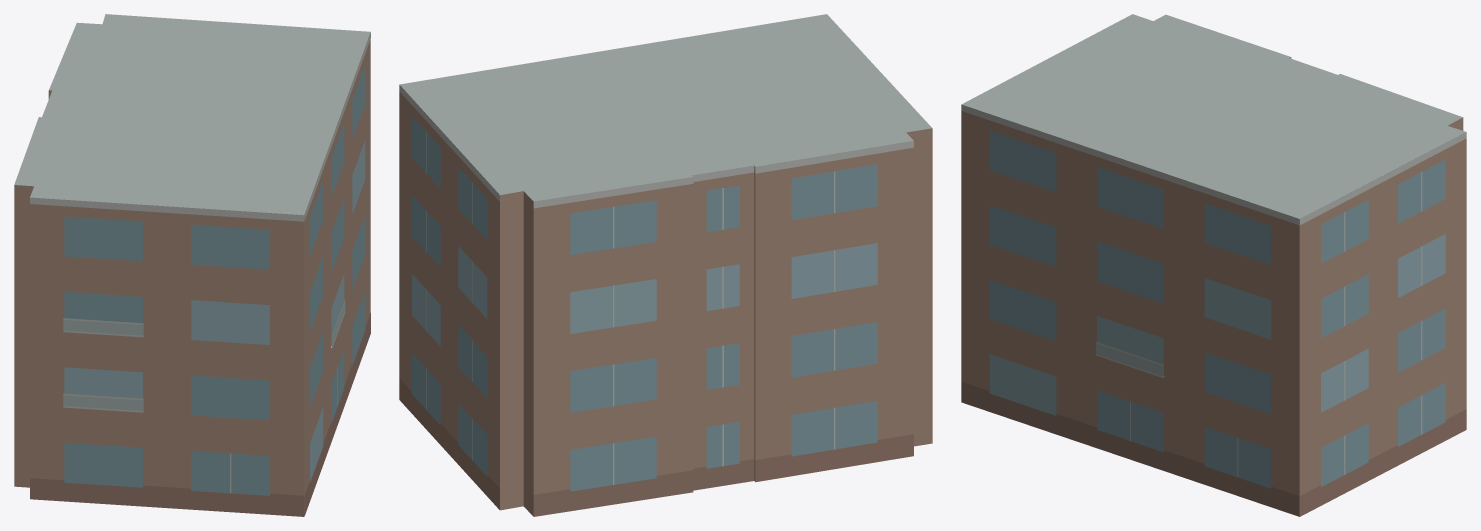
File: survey-upis-32743315.glb
The picture shows the model from 3 angles, left to right: view 1: azimuth 30°, elevation 25°; view 2: azimuth 150°, elevation 25°; view 3: azimuth 270°, elevation 25°; orthographic projection. The views are drawn at different scales.
Parts seen in each view (by area): view 1: survey-upis-32743315.tmp; view 2: survey-upis-32743315.tmp; view 3: survey-upis-32743315.tmp.
Part boxes in pixels (left/top/right/bottom): survey-upis-32743315.tmp: left=14, top=14, right=370, bottom=516; survey-upis-32743315.tmp: left=399, top=14, right=932, bottom=516; survey-upis-32743315.tmp: left=961, top=14, right=1466, bottom=516.
Bounding box in the file's own units: 16.69 × 11.3 × 17.38.
